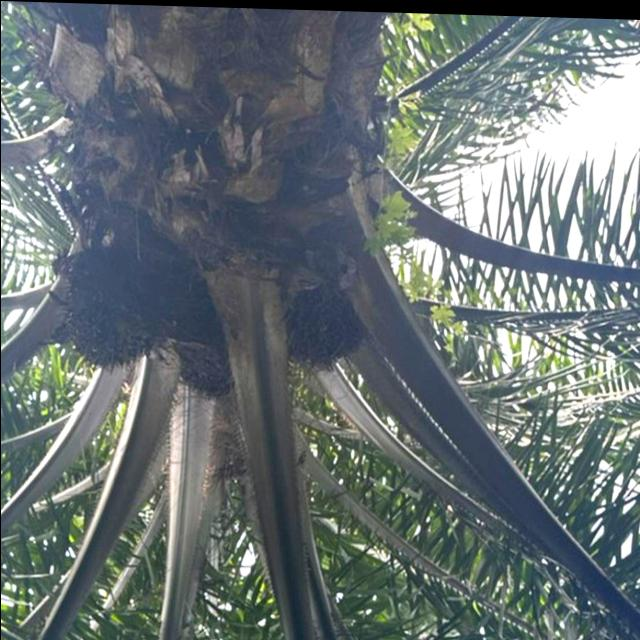almost: (58, 254, 158, 374), (286, 290, 372, 372), (173, 326, 236, 396)
